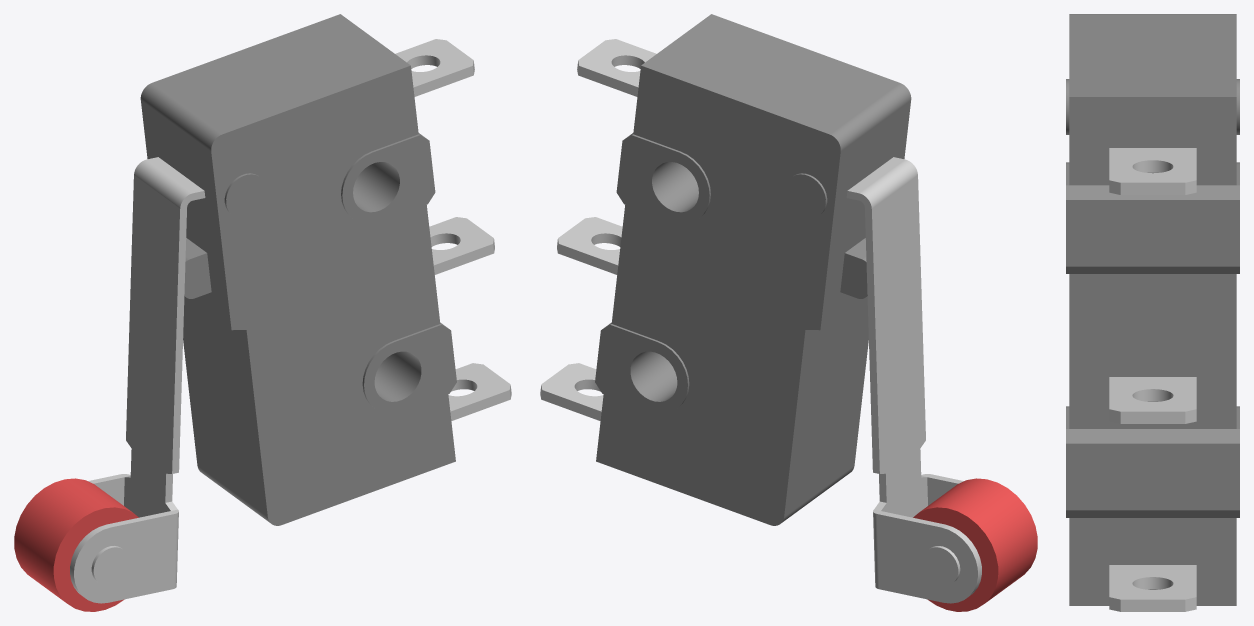
The model's file is Roller_Lever_Limit_Switch___3103_0001_0001.gltf.
3 renders of one model, left to right at view 1: azimuth 30°, elevation 25°; view 2: azimuth 150°, elevation 25°; view 3: azimuth 270°, elevation 25°, orthographic. The views are drawn at different scales.
Parts seen in each view (by area): view 1: mesh32256, mesh32202, mesh32224, mesh32222, mesh32212, mesh32198, mesh32190, mesh32252, mesh32262, mesh32191, mesh32206, mesh32250 (+9 smaller); view 2: mesh32271, mesh32202, mesh32224, mesh32222, mesh32212, mesh32180, mesh32190, mesh32249, mesh32267, mesh32189, mesh32207, mesh32250 (+9 smaller); view 3: mesh32274, mesh32224, mesh32247, mesh32226, mesh32263, mesh32235, mesh32232, mesh32281, mesh32242, mesh32255, mesh32265, mesh32244 (+7 smaller).
Boxes of the visible parts, x1,y1,x2,y2 form: mesh32256: (211, 65, 455, 525); mesh32202: (124, 175, 179, 517); mesh32224: (152, 14, 410, 134); mesh32222: (183, 296, 267, 516); mesh32212: (141, 100, 231, 329); mesh32198: (74, 514, 174, 603); mesh32190: (14, 478, 132, 602); mesh32252: (364, 325, 456, 413); mesh32262: (342, 135, 435, 223); mesh32191: (53, 507, 138, 611); mesh32206: (172, 191, 205, 473); mesh32250: (374, 351, 421, 401); mesh32271: (596, 65, 840, 525); mesh32202: (872, 175, 927, 517); mesh32224: (641, 14, 899, 134); mesh32222: (784, 296, 868, 516); mesh32212: (820, 100, 910, 329); mesh32180: (877, 514, 977, 603); mesh32190: (919, 478, 1037, 602); mesh32249: (595, 325, 687, 413); mesh32267: (616, 135, 709, 223); mesh32189: (913, 507, 998, 611); mesh32207: (846, 191, 879, 473); mesh32250: (630, 351, 677, 401); mesh32274: (1069, 274, 1236, 428); mesh32224: (1069, 14, 1236, 96); mesh32247: (1066, 443, 1239, 510); mesh32226: (1069, 97, 1236, 185); mesh32263: (1066, 200, 1239, 266); mesh32235: (1069, 518, 1236, 605); mesh32232: (1109, 148, 1196, 182); mesh32281: (1109, 377, 1196, 411); mesh32242: (1109, 565, 1196, 599); mesh32255: (1066, 429, 1239, 443); mesh32265: (1066, 185, 1239, 199); mesh32244: (1066, 510, 1239, 517).
Size of the model in its own units: 0.0236 by 0.0235 by 0.00644.
